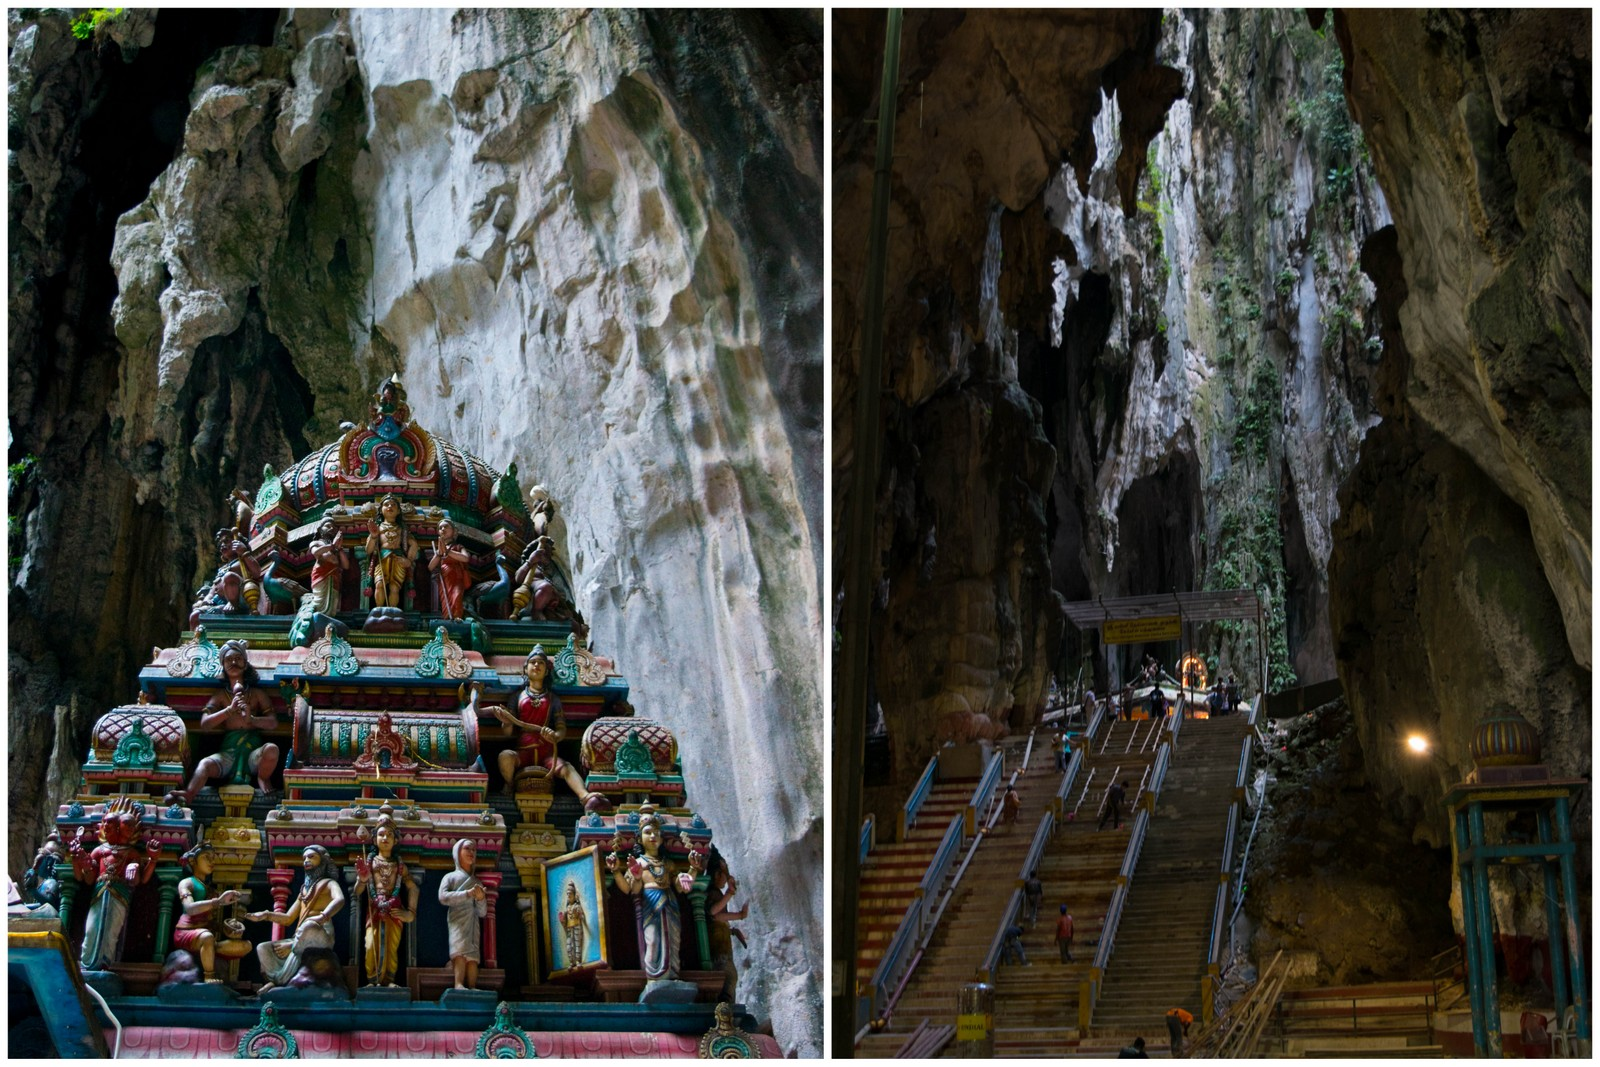Hindu Temple: (37, 375, 708, 1011)
